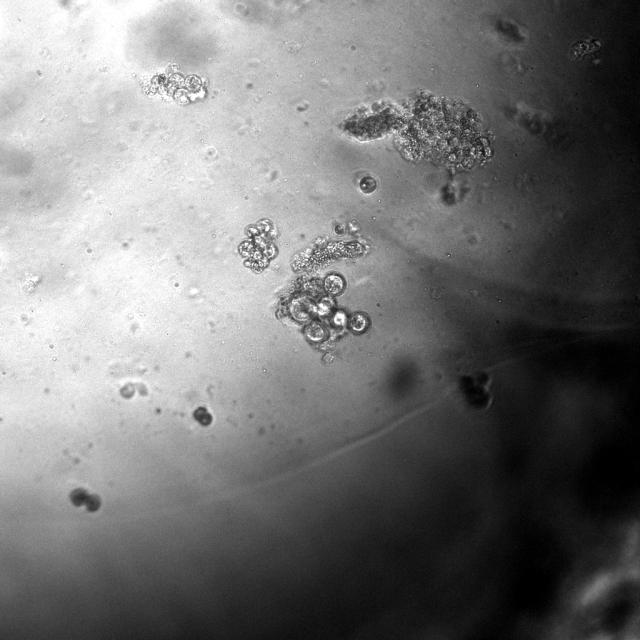organoid: (339, 90, 492, 174), (276, 271, 371, 364), (291, 234, 369, 273), (141, 63, 208, 105), (238, 219, 278, 274), (459, 371, 492, 409), (569, 36, 602, 68), (70, 487, 100, 512), (194, 406, 212, 425), (359, 175, 377, 193), (332, 222, 346, 237)
